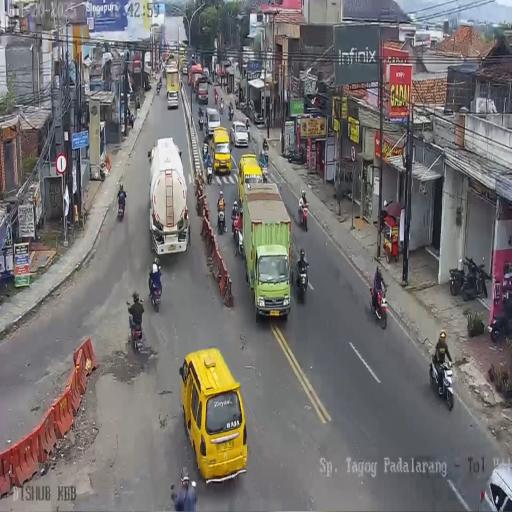3: (244, 171, 291, 316), (148, 136, 189, 256), (238, 153, 263, 207), (211, 126, 232, 175), (189, 64, 203, 93), (203, 68, 209, 82)
car: (180, 347, 248, 483), (478, 461, 512, 509), (205, 106, 221, 138), (231, 120, 249, 147), (167, 90, 178, 108), (182, 60, 188, 74)
truck: (430, 351, 455, 410), (369, 270, 388, 328), (466, 254, 490, 298), (490, 304, 512, 341), (127, 306, 144, 351), (448, 259, 466, 296), (295, 258, 309, 302), (148, 273, 162, 312), (285, 144, 305, 164), (299, 200, 309, 232), (216, 203, 226, 233), (116, 192, 126, 219), (231, 210, 240, 238), (239, 98, 251, 118), (206, 159, 213, 185), (202, 137, 209, 161), (198, 109, 204, 130), (261, 165, 268, 183), (262, 137, 269, 154), (228, 106, 234, 121), (219, 99, 224, 115), (156, 82, 162, 94), (180, 74, 182, 87)
